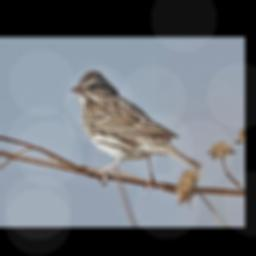Sparrow: (69, 68, 204, 193)
